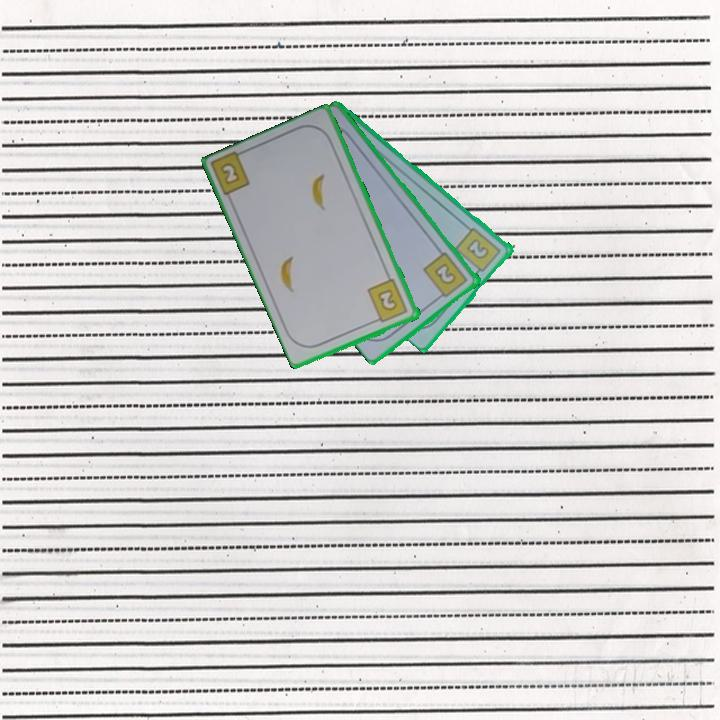2b: (452, 224, 504, 278), (420, 249, 471, 302), (364, 275, 411, 326), (217, 159, 243, 188)
